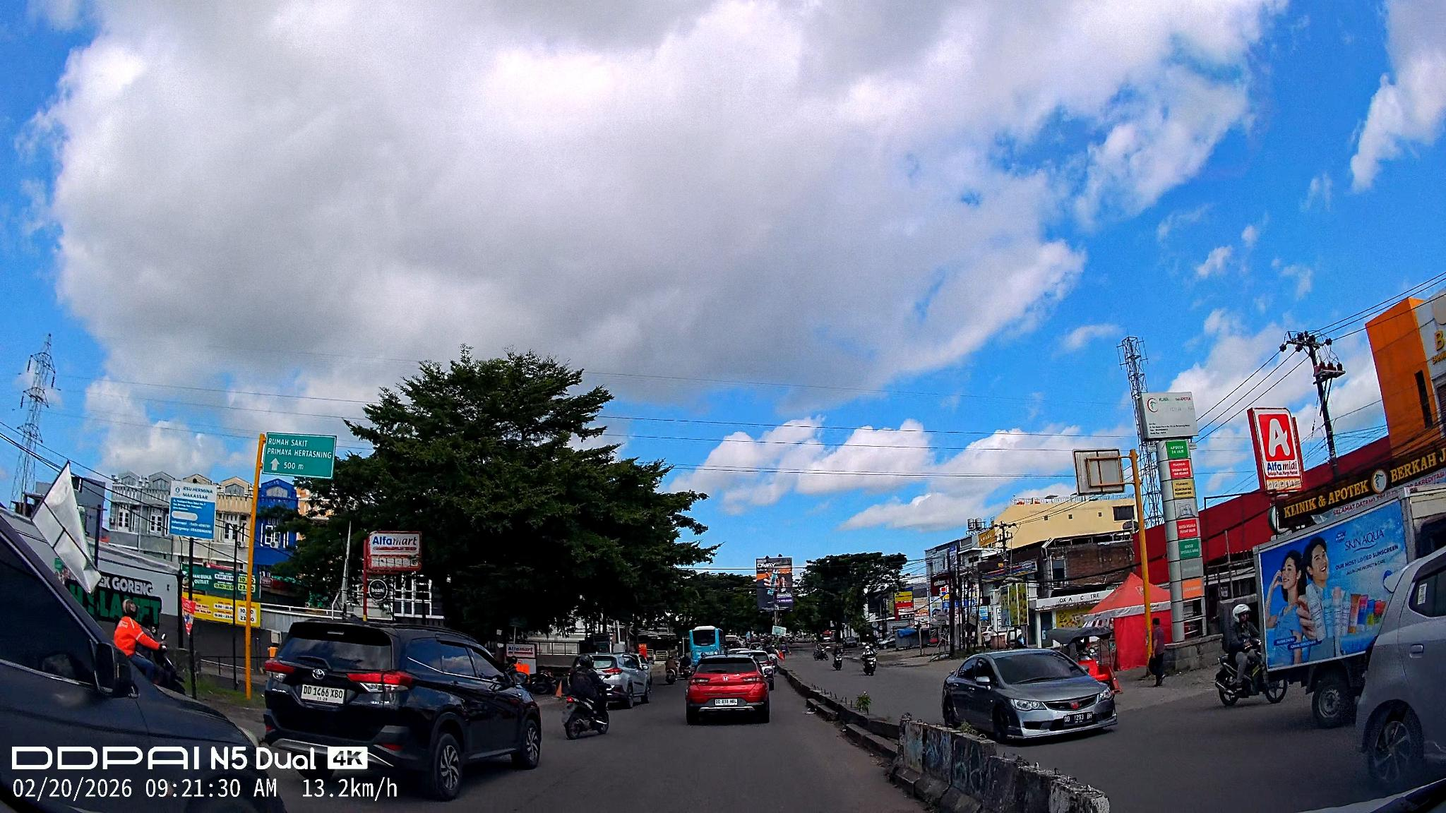rambu_teks: (261, 430, 338, 480)
